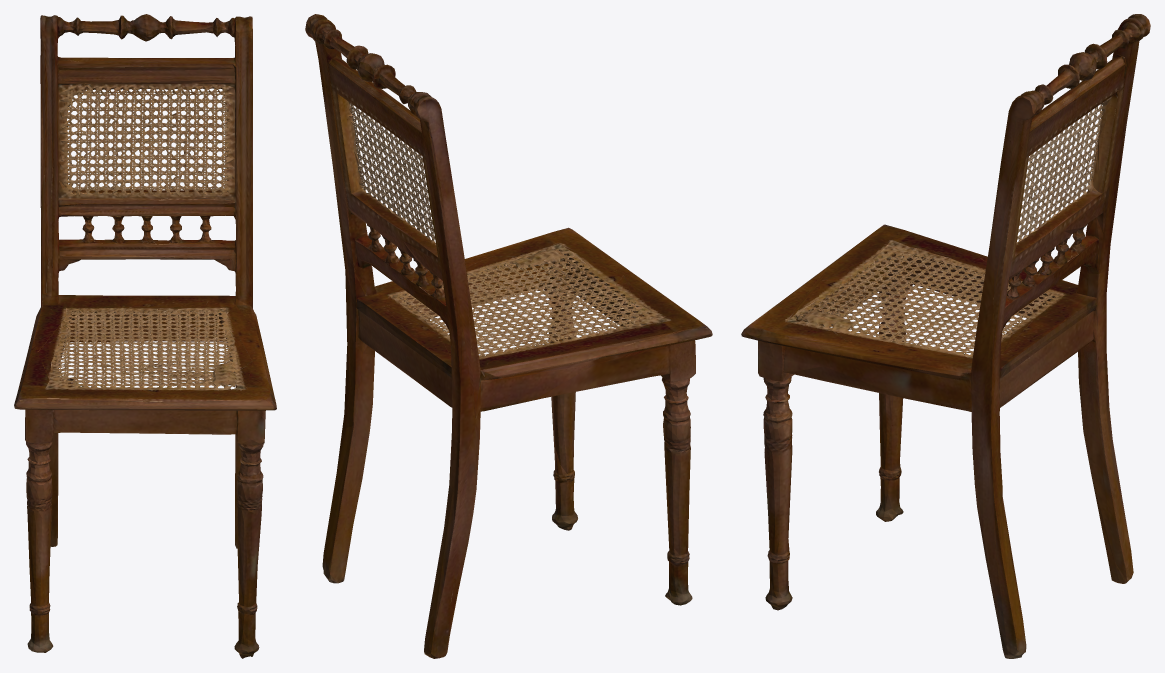
3 views of the same model, side by side, from view 1: azimuth 30°, elevation 25°; view 2: azimuth 150°, elevation 25°; view 3: azimuth 270°, elevation 25° (orthographic). The views are drawn at different scales.
Visible parts, largest first — view 1: Stuhlgeflecht_Schreiber_65k_1k; view 2: Stuhlgeflecht_Schreiber_65k_1k; view 3: Stuhlgeflecht_Schreiber_65k_1k.
Boxes of the visible parts, x1,y1,x2,y2 form: Stuhlgeflecht_Schreiber_65k_1k: (14, 14, 276, 658); Stuhlgeflecht_Schreiber_65k_1k: (305, 14, 712, 658); Stuhlgeflecht_Schreiber_65k_1k: (741, 14, 1150, 658).
Bounding box in the file's own units: 0.5807 × 0.9591 × 0.6169.
Materials: 1 (1 with a texture image).
